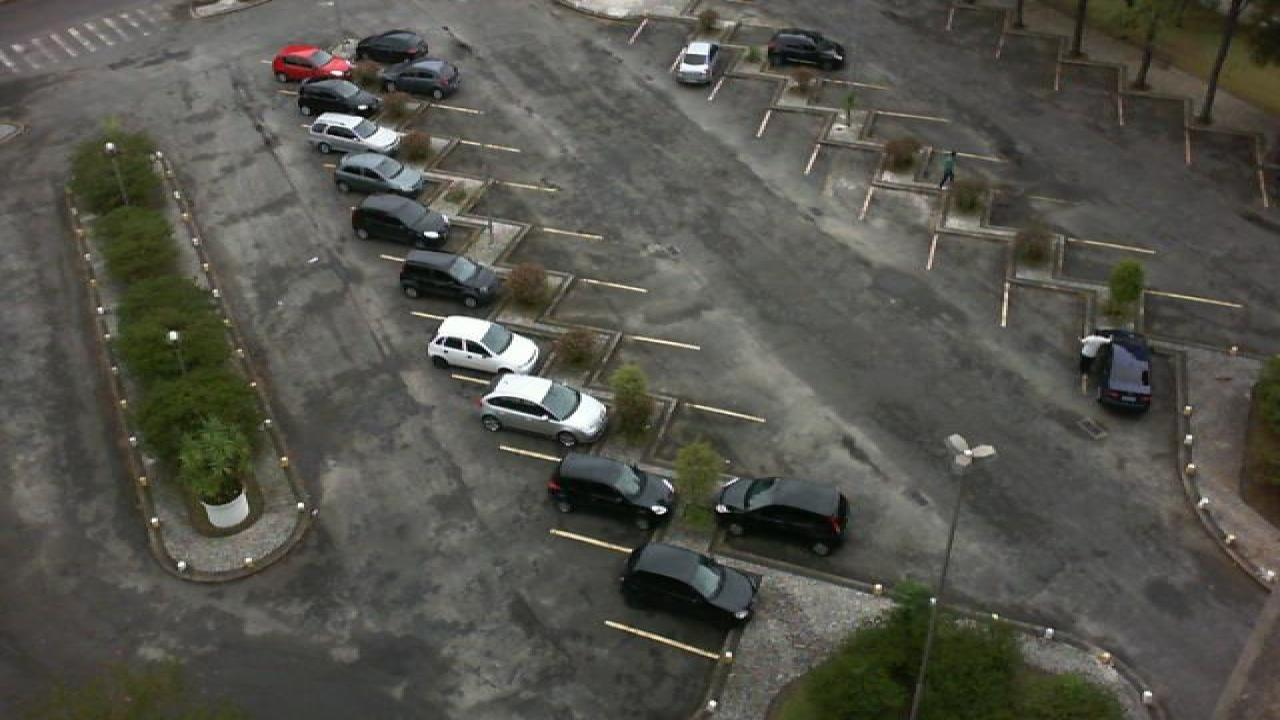Car: (620, 540, 758, 632), (714, 474, 852, 556), (476, 372, 610, 448), (548, 452, 676, 526), (424, 315, 544, 385), (350, 192, 452, 250), (398, 249, 500, 307), (1096, 329, 1156, 412), (334, 152, 428, 200), (308, 112, 404, 158), (296, 76, 382, 120), (764, 28, 848, 71), (378, 59, 462, 100), (270, 44, 356, 84), (352, 29, 430, 64), (674, 41, 720, 86)
